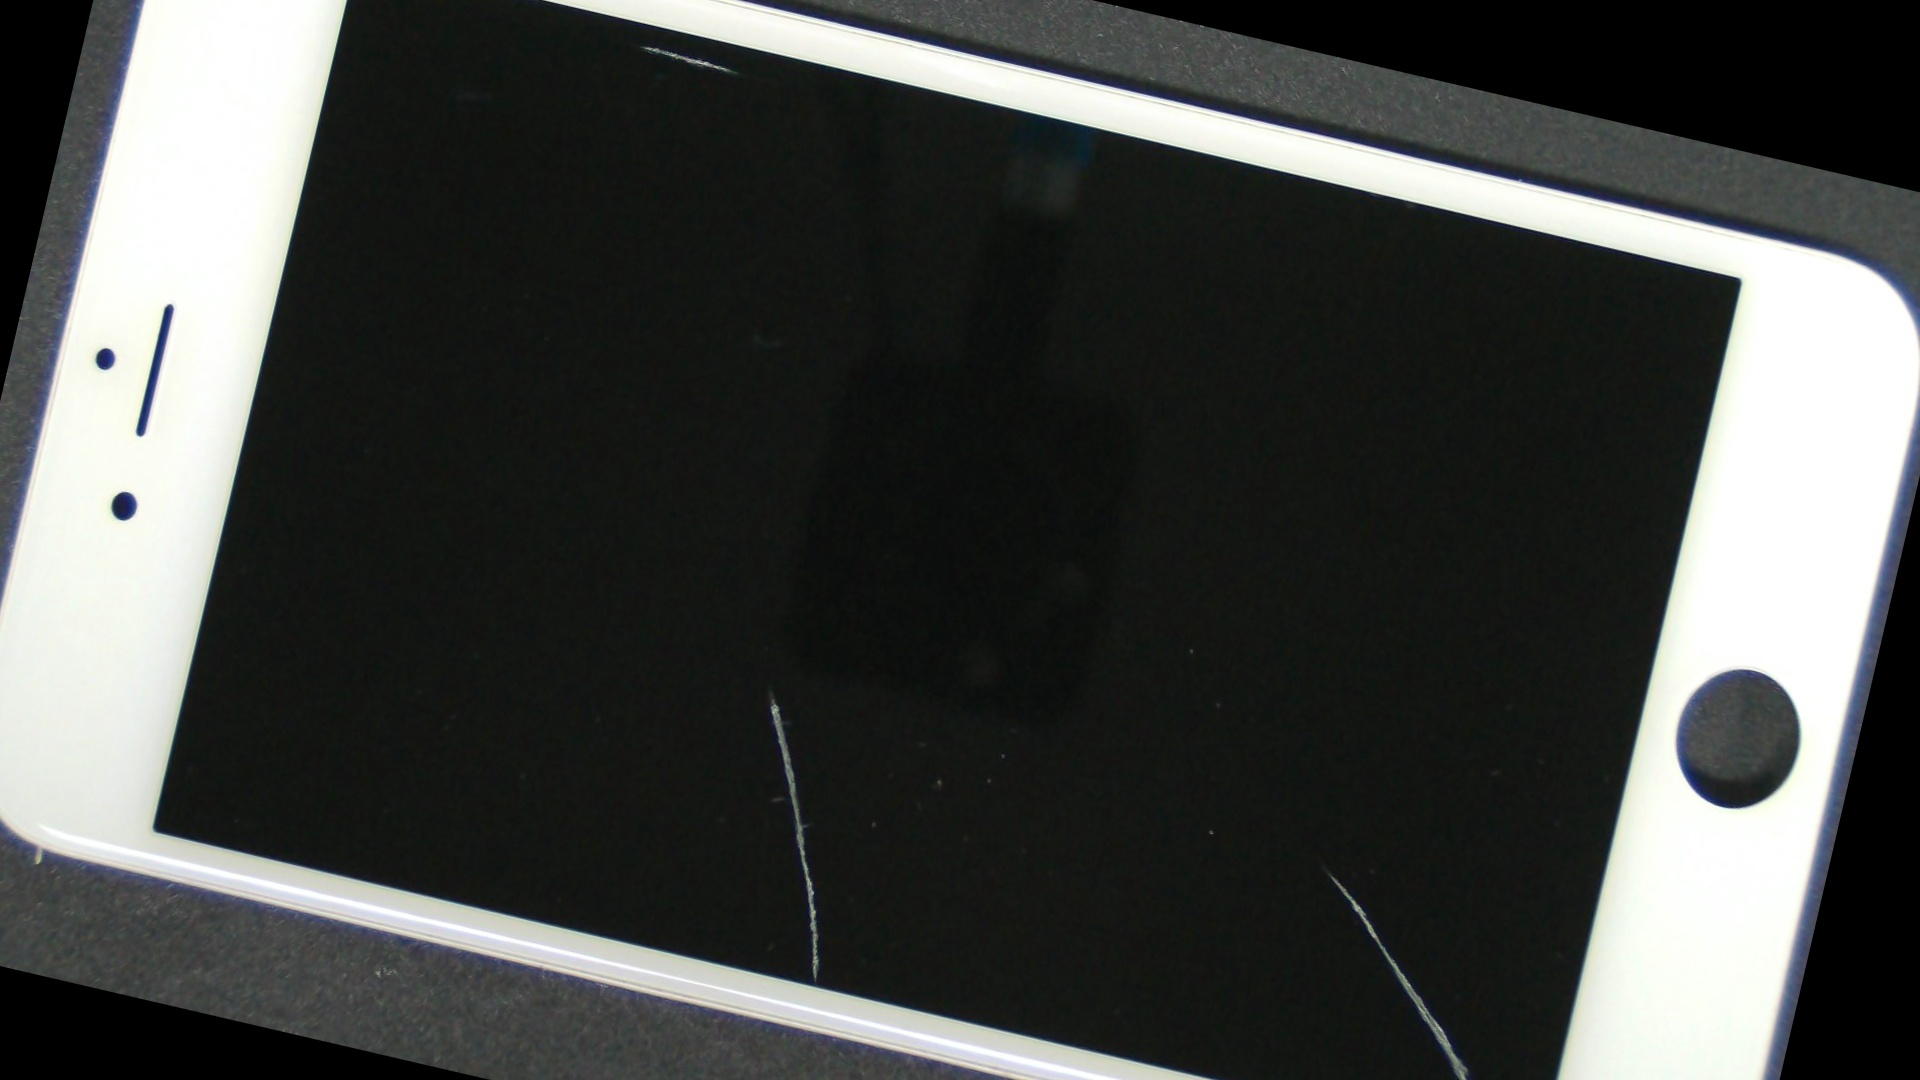oil: (558, 326, 1892, 1080), (289, 233, 1249, 1080), (291, 287, 1295, 1080), (368, 0, 945, 179)
